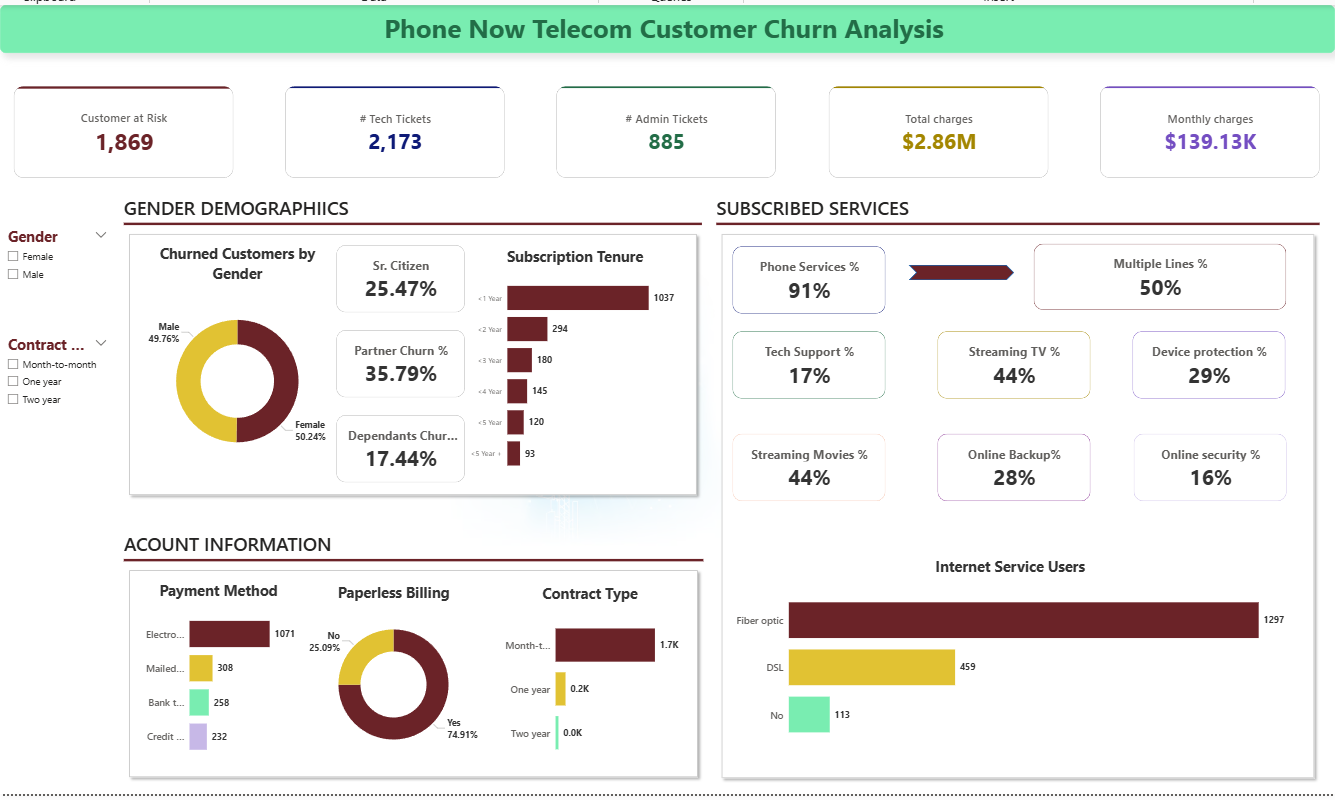

This screenshot's page, from the dashboard's own definition file:
{"tool":"powerbi","page":{"name":"Customer Churn","canvas":[2200,1300],"ordinal":0},"visuals":[{"type":"textbox","box":[0,0,2200.4,79.3],"z":0},{"type":"group","id":"g1","title":"Group 1","box":[203.1,313.2,953,503.1],"z":0,"group":"g2"},{"type":"cardVisual","fields":{"Data":["Measure_Table.Customer at Risk"]},"box":[22.3,133.9,362,151.3],"z":1000},{"type":"cardVisual","fields":{"Data":["Measure_Table.Senior Cityzen Churn %"]},"box":[553.4,395,212.7,111.5],"z":1000,"group":"g2"},{"type":"cardVisual","fields":{"Data":["Measure_Table.Num of Tech Tickets"]},"box":[469.9,133.9,362,151.3],"z":2000},{"type":"cardVisual","fields":{"Data":["Measure_Table.Partner Churn %"]},"box":[553.4,536.2,212.7,111.5],"z":2000,"group":"g2"},{"type":"cardVisual","fields":{"Data":["Measure_Table.Num of Admin Tickets"]},"box":[917.5,133.9,362,151.3],"z":3000},{"type":"cardVisual","fields":{"Data":["Measure_Table.Dependants Churn %"]},"box":[553.4,675,212.7,111.5],"z":3000,"group":"g2"},{"type":"shape","title":"SUBSCRIBED SERVICES ","box":[1180.4,312.4,994.4,969.6],"z":4000},{"type":"barChart","title":"Subscription Tenure","fields":{"Category":["01 Churn-Dataset.Tenure_category"],"Y":["CountNonNull(01 Churn-Dataset.customerID)"]},"box":[765.7,398,362.7,388.2],"z":4000,"group":"g2"},{"type":"cardVisual","fields":{"Data":["Measure_Table.Total charges"]},"box":[1365.1,133.9,362,151.3],"z":5000},{"type":"cardVisual","fields":{"Data":["Measure_Table.Monthly charges"]},"box":[1812.7,133.9,362,151.3],"z":6000},{"type":"shape","title":"GENDER DEMOGRAPHIICS","box":[203.1,313.2,953,503.1],"z":6000,"group":"g1"},{"type":"shape","title":"ACOUNT INFORMATION","box":[203.1,867.6,954.9,413.8],"z":6000,"group":"g3"},{"type":"group","id":"g2","title":"Group 2","box":[203.1,313.2,953,503.1],"z":7000},{"type":"donutChart","title":"Churned  Customers by Gender","fields":{"Category":["01 Churn-Dataset.gender"],"Y":["CountNonNull(01 Churn-Dataset.customerID)"]},"box":[227.5,394.4,325.3,389.1],"z":7000,"group":"g1"},{"type":"group","id":"g3","title":"Group 1","box":[203.1,867.6,954.9,413.8],"z":7000,"group":"g4"},{"type":"cardVisual","fields":{"Data":["Measure_Table.Phone Services %"]},"box":[1207.6,396.8,252.9,111.6],"z":8000},{"type":"cardVisual","fields":{"Data":["Measure_Table.Tech Support %"]},"box":[1207.6,538.1,252.9,111.6],"z":9000},{"type":"donutChart","title":"Paperless Billing","fields":{"Y":["CountNonNull(01 Churn-Dataset.customerID)"],"Category":["01 Churn-Dataset.PaperlessBilling"]},"box":[488.4,952.4,320.9,304.5],"z":9000,"group":"g4"},{"type":"cardVisual","fields":{"Data":["Measure_Table.Streaming TV %"]},"box":[1544.9,538.1,252.9,111.6],"z":10000},{"type":"cardVisual","fields":{"Data":["Measure_Table.Device protection %"]},"box":[1867.2,538.1,252.9,111.6],"z":11000},{"type":"cardVisual","fields":{"Data":["Measure_Table.Streaming Movies  %"]},"box":[1207.7,706.8,252.9,111.6],"z":12000},{"type":"cardVisual","fields":{"Data":["Measure_Table.Online bkp %"]},"box":[1545,706.8,252.9,111.6],"z":13000},{"type":"cardVisual","fields":{"Data":["Measure_Table.Online security %"]},"box":[1867.3,706.8,252.9,111.6],"z":14000},{"type":"cardVisual","fields":{"Data":["Measure_Table.Multiple Lines %"]},"box":[1703.6,394.3,416.6,109.1],"z":15000},{"type":"shape","box":[1497.8,429,173.6,24.8],"z":16000},{"type":"barChart","title":"Internet Service Users","fields":{"Category":["01 Churn-Dataset.InternetService"],"Y":["CountNonNull(01 Churn-Dataset.customerID)"]},"box":[1207.6,907.6,915,329.8],"z":17000},{"type":"group","id":"g4","title":"Group 3","box":[203.1,867.6,954.9,413.8],"z":18000},{"type":"slicer","fields":{"Values":["01 Churn-Dataset.gender"]},"box":[0,359.6,188.5,121.5],"z":19000},{"type":"slicer","fields":{"Values":["01 Churn-Dataset.Contract"]},"box":[0,538.1,188.5,277.7],"z":20000},{"type":"barChart","title":"Payment Method","fields":{"Y":["CountNonNull(01 Churn-Dataset.customerID)"],"Category":["01 Churn-Dataset.PaymentMethod"]},"box":[221.1,948.9,275.2,309.4],"z":20000,"group":"g4"},{"type":"barChart","title":"Contract Type","fields":{"Y":["CountNonNull(01 Churn-Dataset.customerID)"],"Category":["01 Churn-Dataset.Contract"]},"box":[814.8,954.4,313.2,310],"z":21000,"group":"g4"}]}

Visuals, with their boxes on the page's 2200x1300 design canvas (x1, y1, x2, y2). These are canvas units, not pixel positions in the 1335x800 screenshot, which may show the page scaled, cropped or inside an application window:
textbox: 0,0,2200,79
"Group 1" group: 203,313,1156,816
cardVisual - Measure_Table.Customer at Risk: 22,134,384,285
cardVisual - Measure_Table.Senior Cityzen Churn %: 553,395,766,506
cardVisual - Measure_Table.Num of Tech Tickets: 470,134,832,285
cardVisual - Measure_Table.Partner Churn %: 553,536,766,648
cardVisual - Measure_Table.Num of Admin Tickets: 918,134,1280,285
cardVisual - Measure_Table.Dependants Churn %: 553,675,766,786
"SUBSCRIBED SERVICES " shape: 1180,312,2175,1282
"Subscription Tenure" barChart: 766,398,1128,786
cardVisual - Measure_Table.Total charges: 1365,134,1727,285
cardVisual - Measure_Table.Monthly charges: 1813,134,2175,285
"GENDER DEMOGRAPHIICS" shape: 203,313,1156,816
"ACOUNT INFORMATION" shape: 203,868,1158,1281
"Group 2" group: 203,313,1156,816
"Churned  Customers by Gender" donutChart: 228,394,553,784
"Group 1" group: 203,868,1158,1281
cardVisual - Measure_Table.Phone Services %: 1208,397,1460,508
cardVisual - Measure_Table.Tech Support %: 1208,538,1460,650
"Paperless Billing" donutChart: 488,952,809,1257
cardVisual - Measure_Table.Streaming TV %: 1545,538,1798,650
cardVisual - Measure_Table.Device protection %: 1867,538,2120,650
cardVisual - Measure_Table.Streaming Movies  %: 1208,707,1461,818
cardVisual - Measure_Table.Online bkp %: 1545,707,1798,818
cardVisual - Measure_Table.Online security %: 1867,707,2120,818
cardVisual - Measure_Table.Multiple Lines %: 1704,394,2120,503
shape: 1498,429,1671,454
"Internet Service Users" barChart: 1208,908,2123,1237
"Group 3" group: 203,868,1158,1281
slicer - 01 Churn-Dataset.gender: 0,360,188,481
slicer - 01 Churn-Dataset.Contract: 0,538,188,816
"Payment Method" barChart: 221,949,496,1258
"Contract Type" barChart: 815,954,1128,1264
